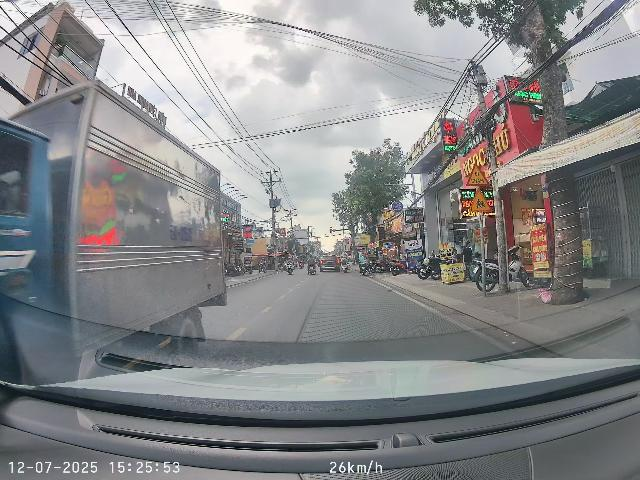225-chu-y-tre-em: (469, 188, 492, 212)
245-di-cham: (466, 162, 490, 186)
